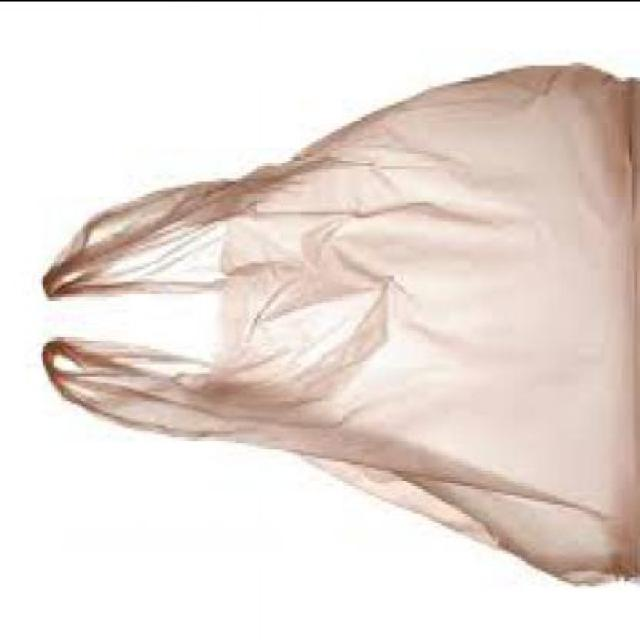PLASTIC: (44, 65, 640, 582)
